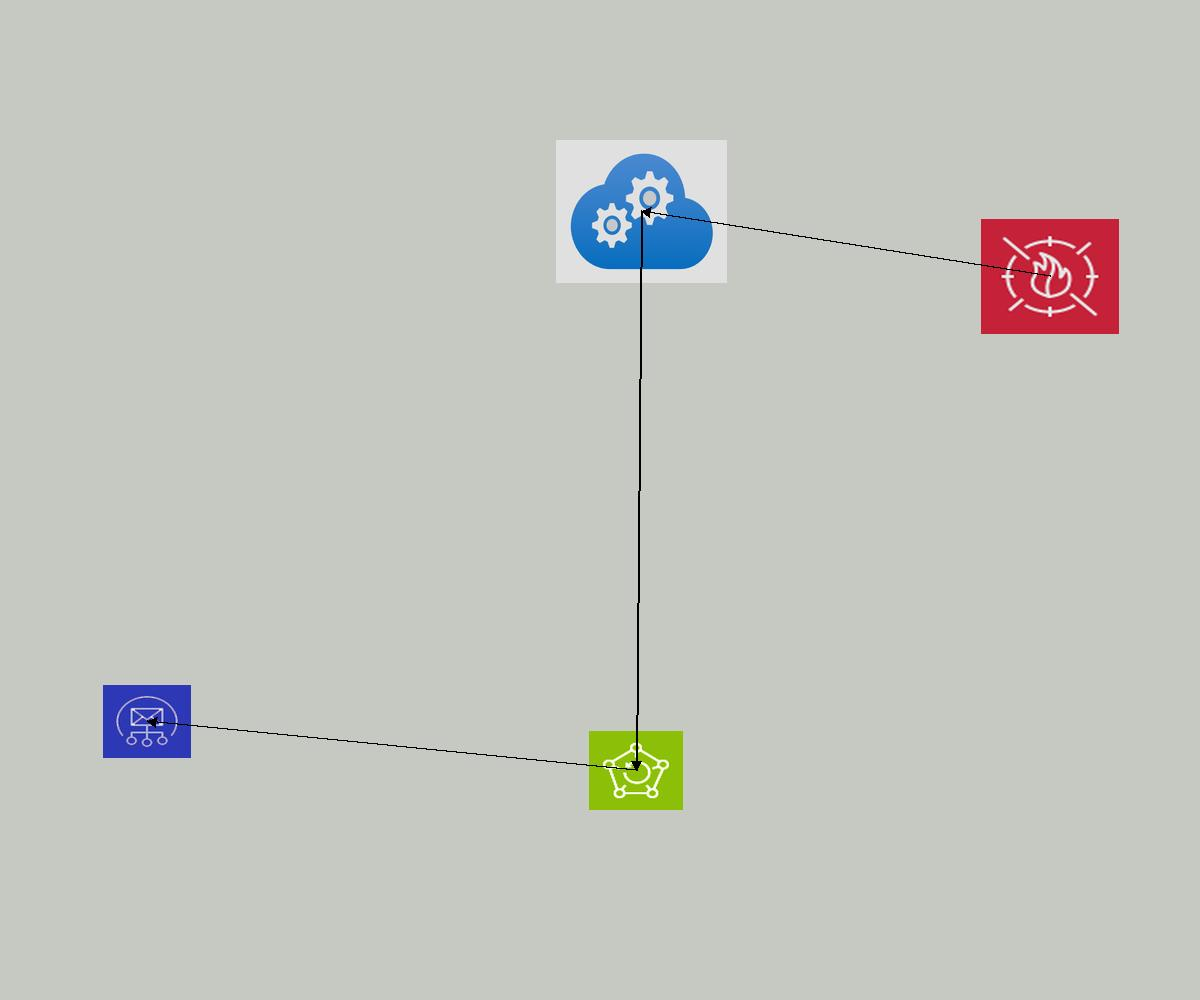AWS-Backup: (589, 731, 683, 810)
AWS-Simple-Email-Service: (103, 685, 191, 758)
AWS-WAF: (981, 219, 1119, 334)
Azure_cloud_services: (556, 140, 727, 283)
